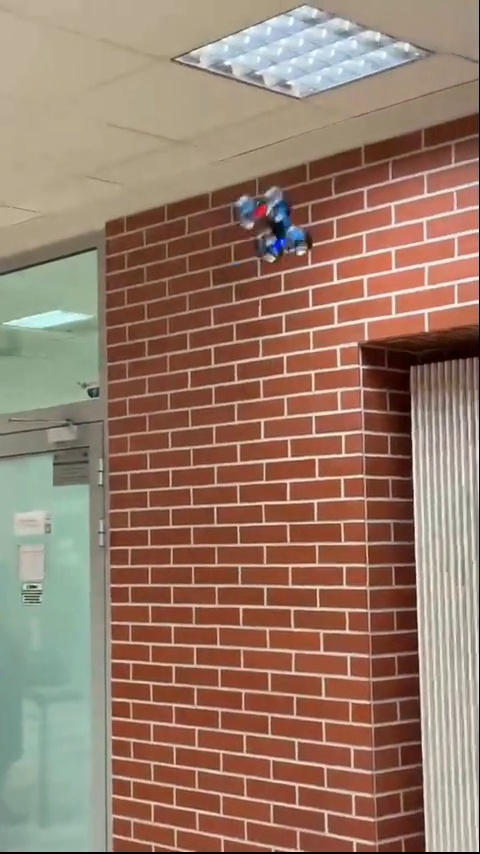drone: (235, 184, 316, 267)
